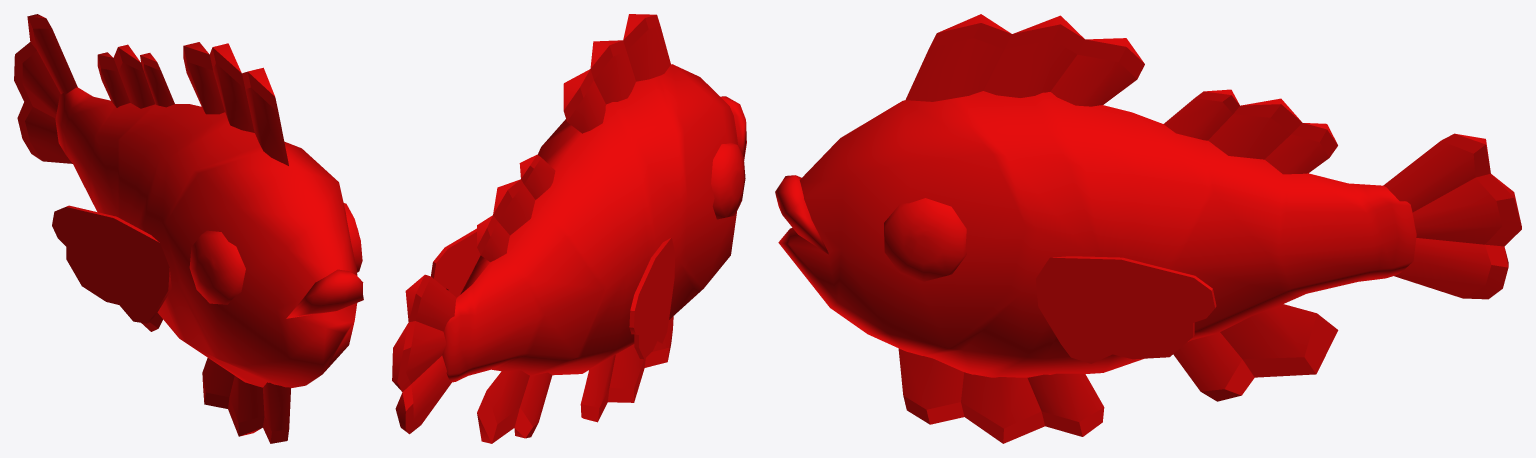
The picture shows the model from 3 angles, left to right: view 1: azimuth 30°, elevation 25°; view 2: azimuth 150°, elevation 25°; view 3: azimuth 270°, elevation 25°; orthographic projection. The views are drawn at different scales.
Parts seen in each view (by area): view 1: Fish_Clownfish; view 2: Fish_Clownfish; view 3: Fish_Clownfish.
Part boxes in pixels (box(x1,y1,x2,y2)): Fish_Clownfish: box(14, 14, 363, 443); Fish_Clownfish: box(392, 14, 746, 443); Fish_Clownfish: box(775, 14, 1521, 443).
Size of the model in its own units: 0.121 by 0.2148 by 0.345.
